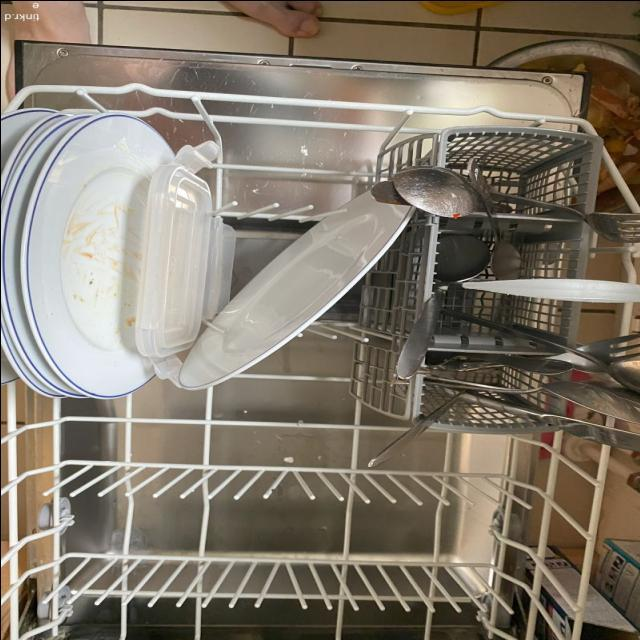clutery_bin: (394, 70, 599, 421)
empty_slot: (19, 420, 592, 640)
